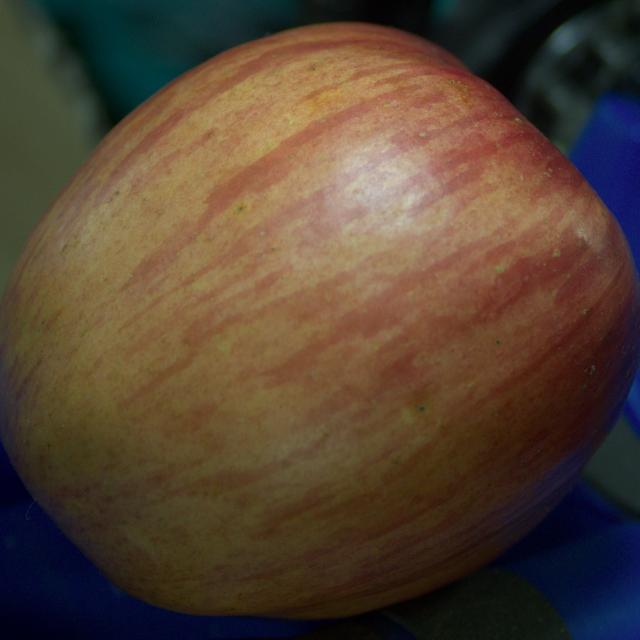apple: (0, 23, 639, 619)
